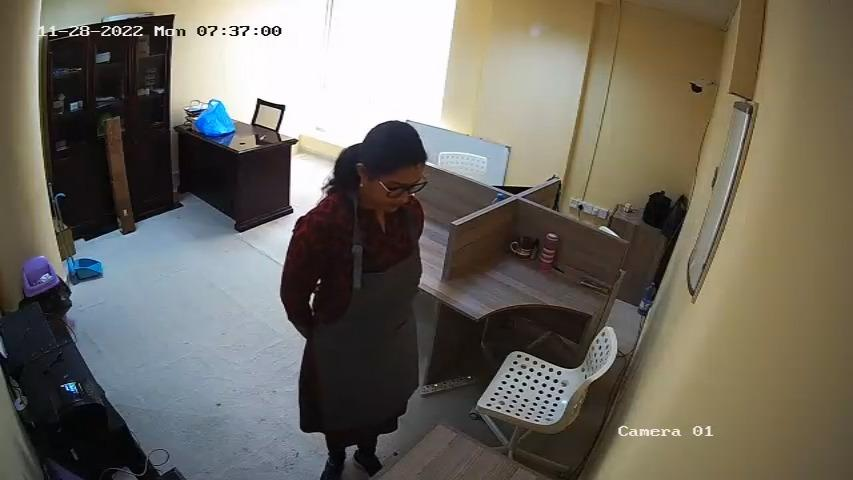apron: (315, 212, 421, 409)
